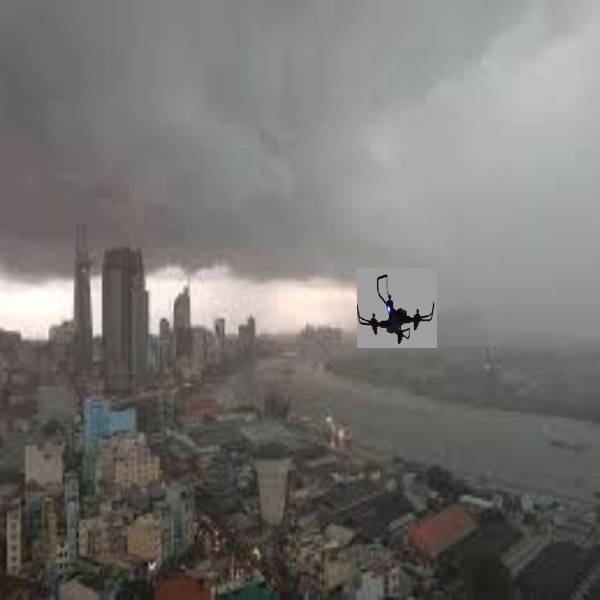drone: (357, 267, 436, 347)
